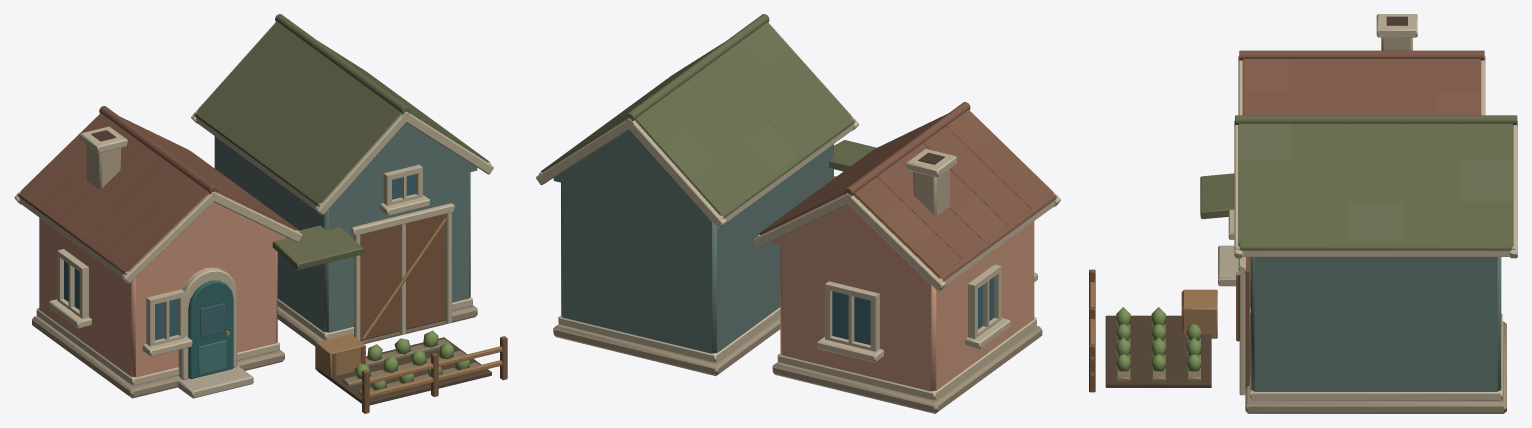
File: farmstead_level_2.glb
The picture shows the model from 3 angles, left to right: view 1: azimuth 30°, elevation 25°; view 2: azimuth 150°, elevation 25°; view 3: azimuth 270°, elevation 25°; orthographic projection. The views are drawn at different scales.
Visible parts, largest first — view 1: farmstead_level_2_runtime; view 2: farmstead_level_2_runtime; view 3: farmstead_level_2_runtime.
Part boxes in pixels (<box>): farmstead_level_2_runtime: <box>14,14,507,413</box>; farmstead_level_2_runtime: <box>536,14,1060,413</box>; farmstead_level_2_runtime: <box>1089,14,1517,413</box>.
Bounding box in the file's own units: 6.66 × 4.03 × 6.08.
